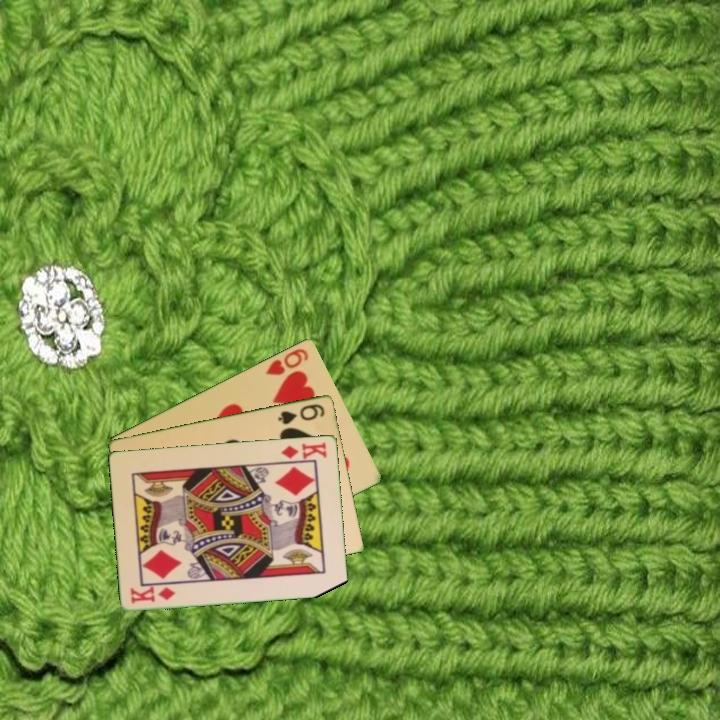6h: (262, 345, 311, 378)
6s: (274, 400, 328, 427)
Kd: (277, 438, 330, 461), (127, 583, 179, 606)
